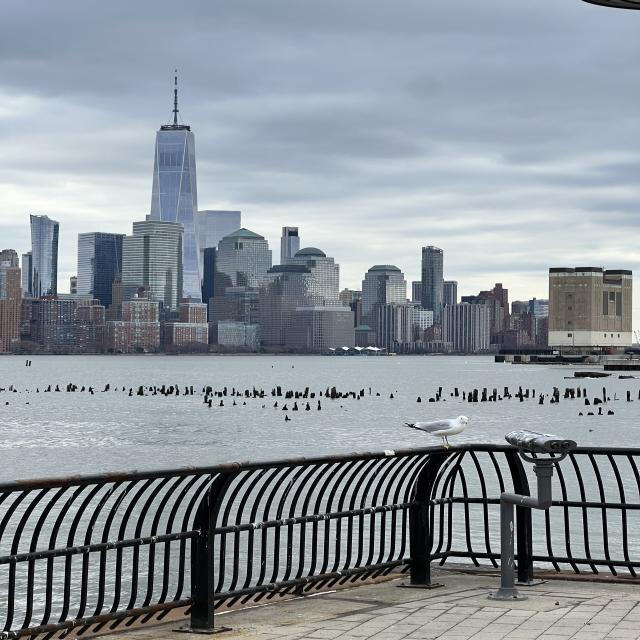WTC: (148, 68, 199, 222)
